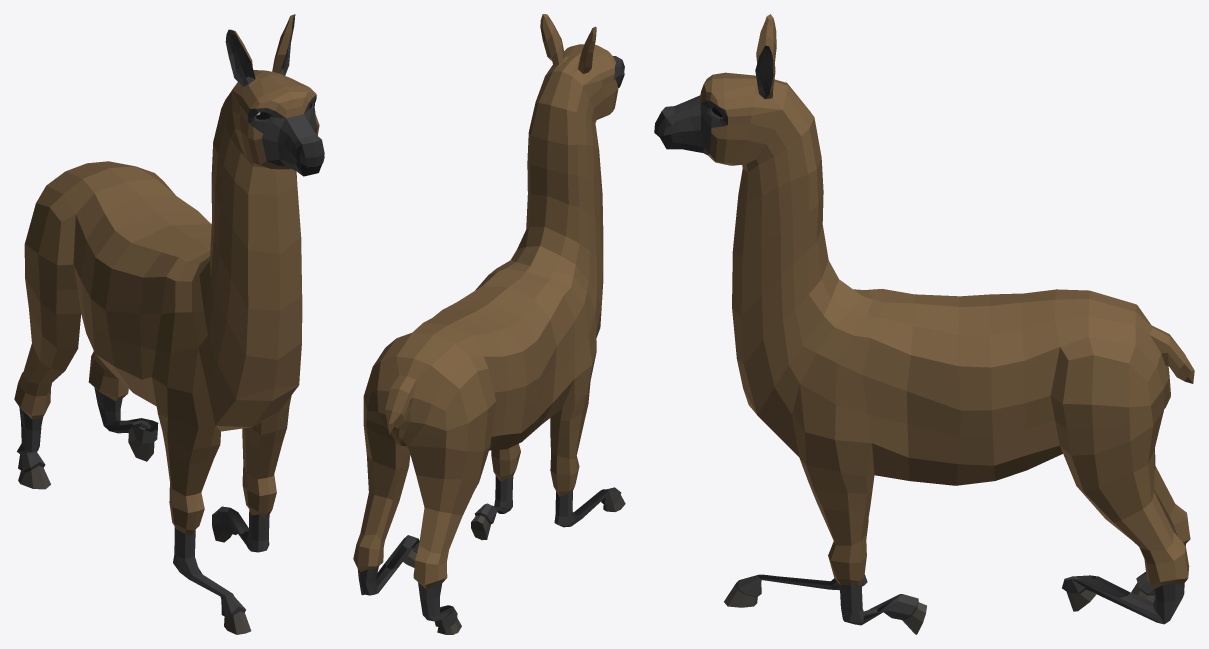
Rendered from alpaca.glb.
3 views of the same model, side by side, from view 1: azimuth 30°, elevation 25°; view 2: azimuth 150°, elevation 25°; view 3: azimuth 270°, elevation 25° (orthographic). The views are drawn at different scales.
Visible parts, largest first — view 1: Alpaca; view 2: Alpaca; view 3: Alpaca.
Boxes of the visible parts, x1,y1,x2,y2 form: Alpaca: (14, 14, 324, 634); Alpaca: (353, 14, 625, 634); Alpaca: (654, 14, 1194, 634).
Bounding box in the file's own units: 1.27 × 5.2 × 4.3.
